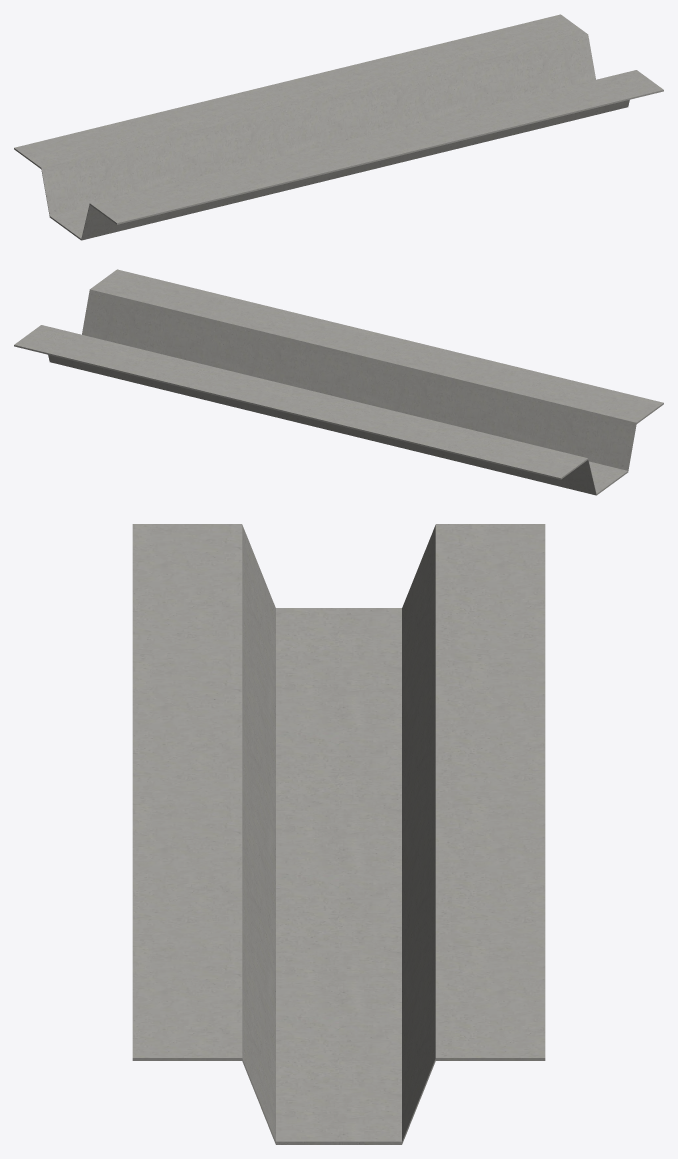
File: COB-FIB-004.glb
3 renders of one model, top to bottom at view 1: azimuth 30°, elevation 25°; view 2: azimuth 150°, elevation 25°; view 3: azimuth 270°, elevation 25°, orthographic. The views are drawn at different scales.
Parts seen in each view (by area): view 1: COB-FIB-004_chapa; view 2: COB-FIB-004_chapa; view 3: COB-FIB-004_chapa.
Part boxes in pixels (bbox=[...]): COB-FIB-004_chapa: bbox=[14, 14, 663, 240]; COB-FIB-004_chapa: bbox=[14, 269, 663, 495]; COB-FIB-004_chapa: bbox=[132, 524, 545, 1144].
Bounding box in the file's own units: 3 × 0.228 × 0.98.
Materials: 1 (1 with a texture image).
